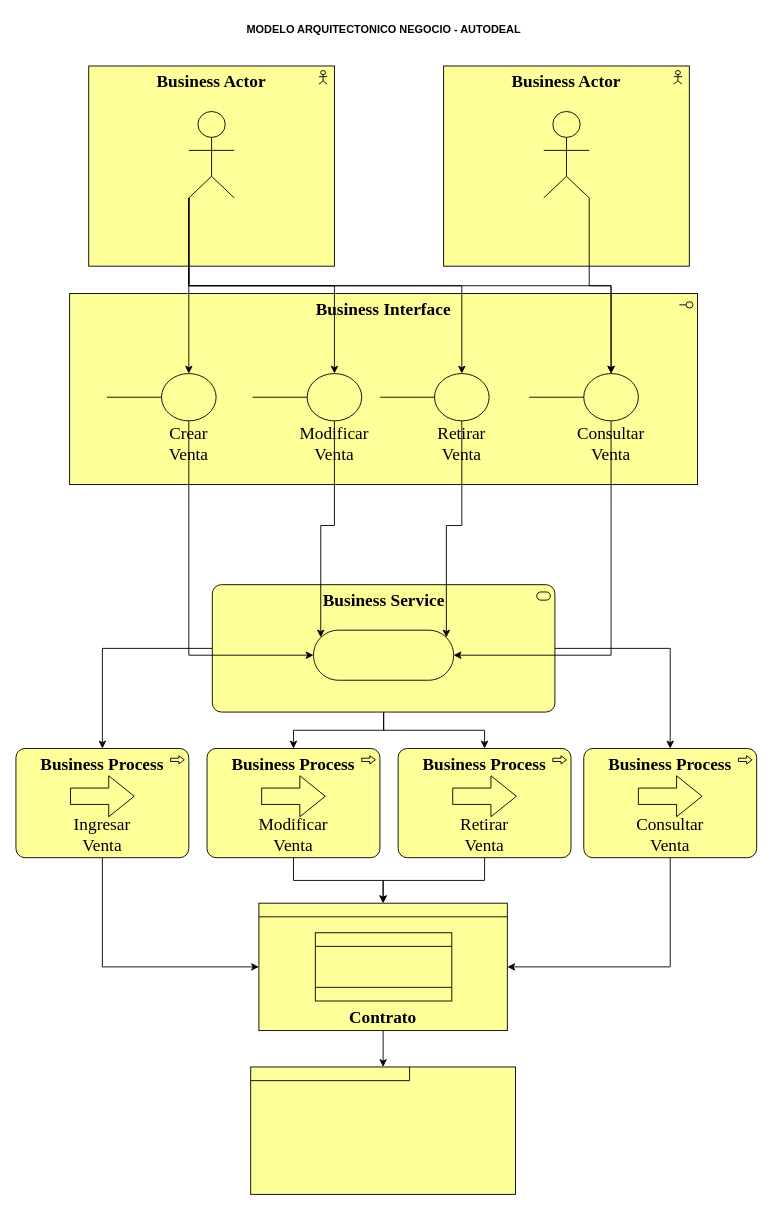
Some shapes in this 773 by 1210 pixel diagram are drawn without their labels. The shapes that lost their labels are listed below. From the top down, each one's centre as x and y in pixels, then its label:
the point at 211,154: Comprador
the point at 566,154: Vendedor
the point at 383,654: Venta
the point at 383,966: Factura Negocio
the point at 383,1130: Product
